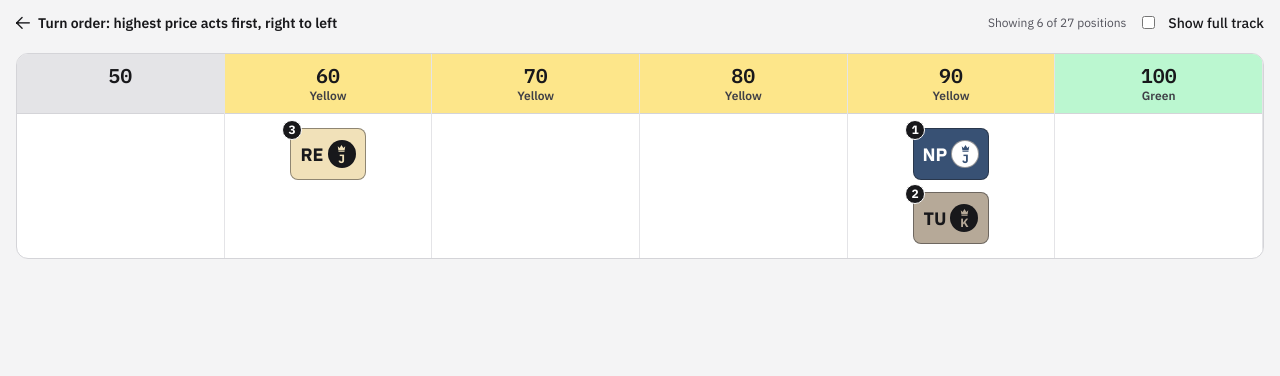
Test: TrackView on a phone › shows the dock for the selected token
The width and height of the screenshot is (1280, 376).
Click the button "2 TU K".
click(951, 218)  # box [913,192,989,244]
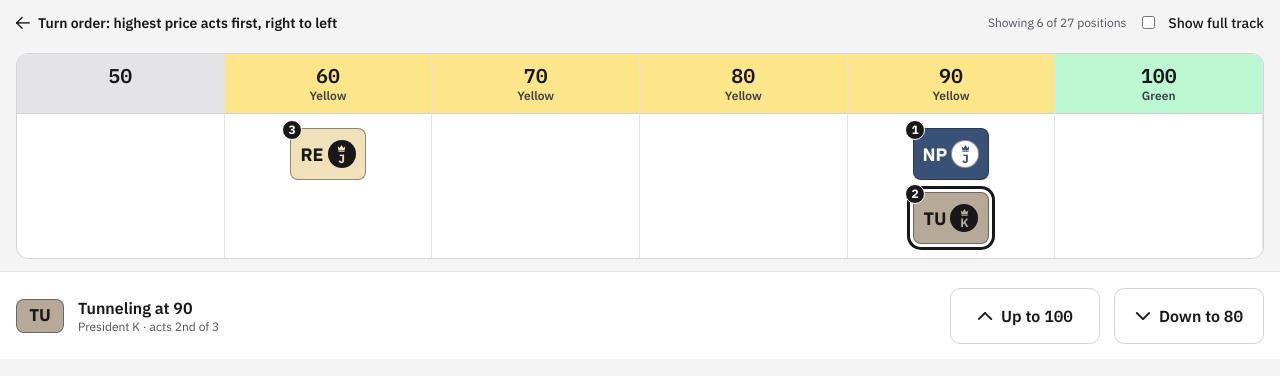
Now the element with test id "dock" shows "Tunneling at 90", box [78,298,192,318]
Now the element with test id "dock" shows "President K", box [78,318,219,334]
Now the element with test id "dock" shows "acts 2nd of 3", box [78,318,219,334]
